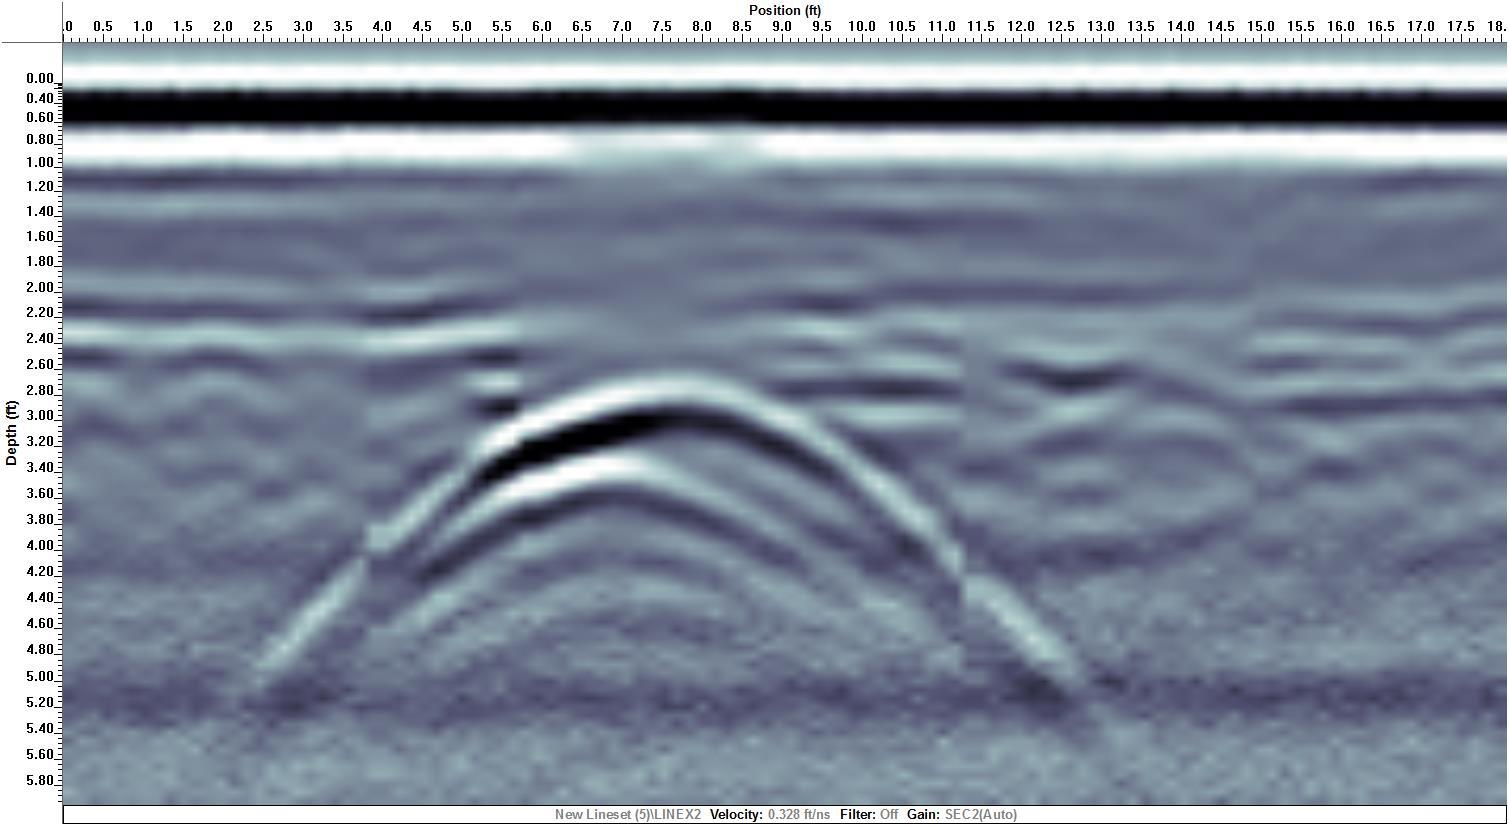hyperbola: (340, 357, 997, 636)
